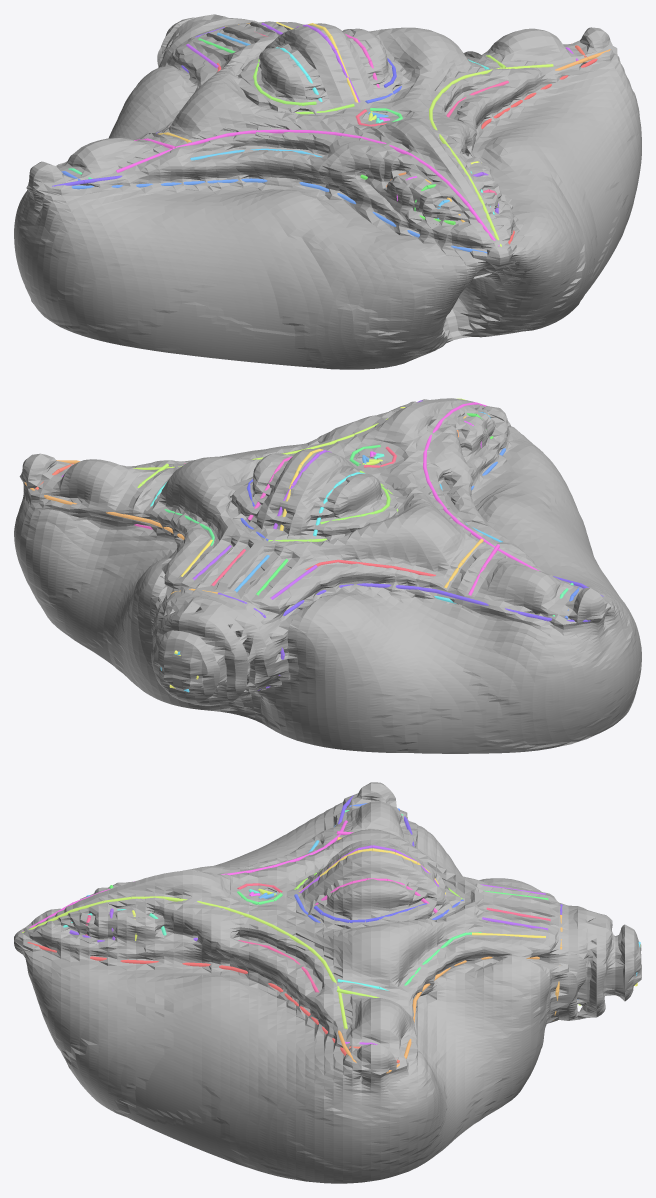
Rendered from author1_ship.gltf.
The picture shows the model from 3 angles, top to bottom: view 1: azimuth 30°, elevation 25°; view 2: azimuth 150°, elevation 25°; view 3: azimuth 270°, elevation 25°; orthographic projection. The views are drawn at different scales.
Bounding box in the file's own units: 0.7321 × 0.2484 × 0.6861.
